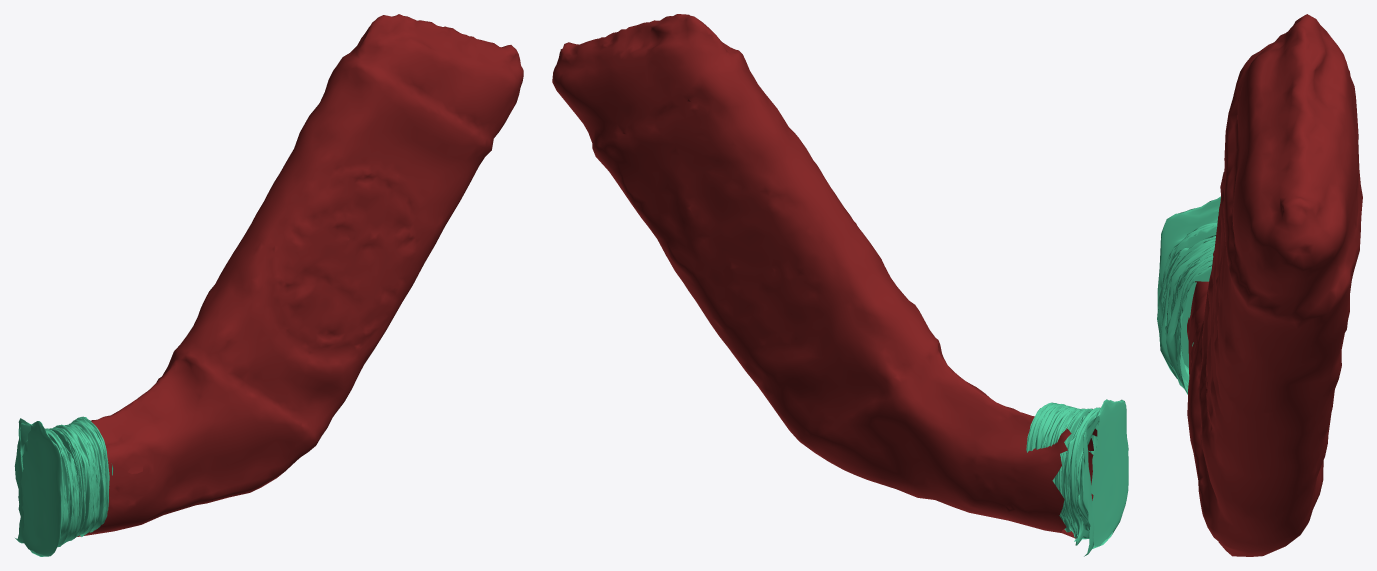
Rendered from object_deformed_2.obj.
3 renders of one model, left to right at view 1: azimuth 30°, elevation 25°; view 2: azimuth 150°, elevation 25°; view 3: azimuth 270°, elevation 25°, orthographic. The views are drawn at different scales.
Bounding box in the file's own units: 0.2047 × 0.1664 × 0.0466.
